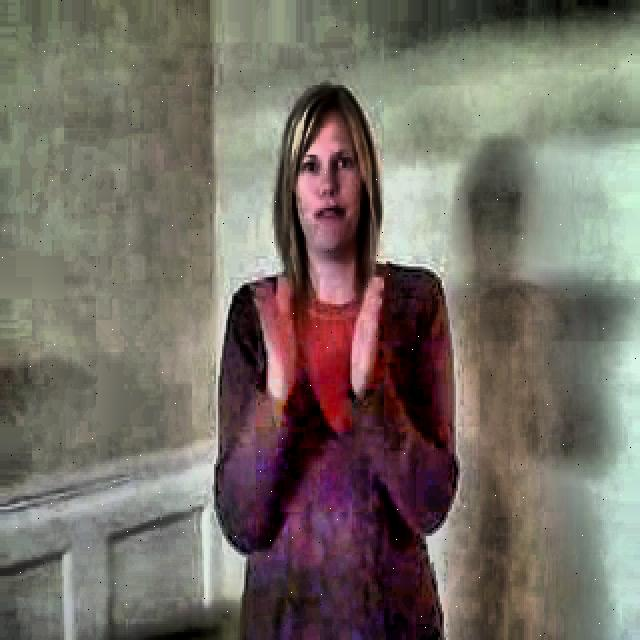F: (197, 74, 460, 626)
